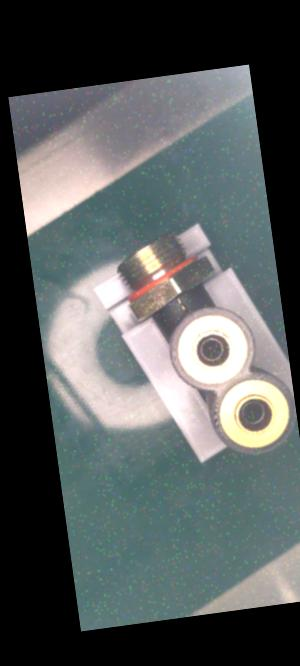craze: (174, 293, 189, 314)
